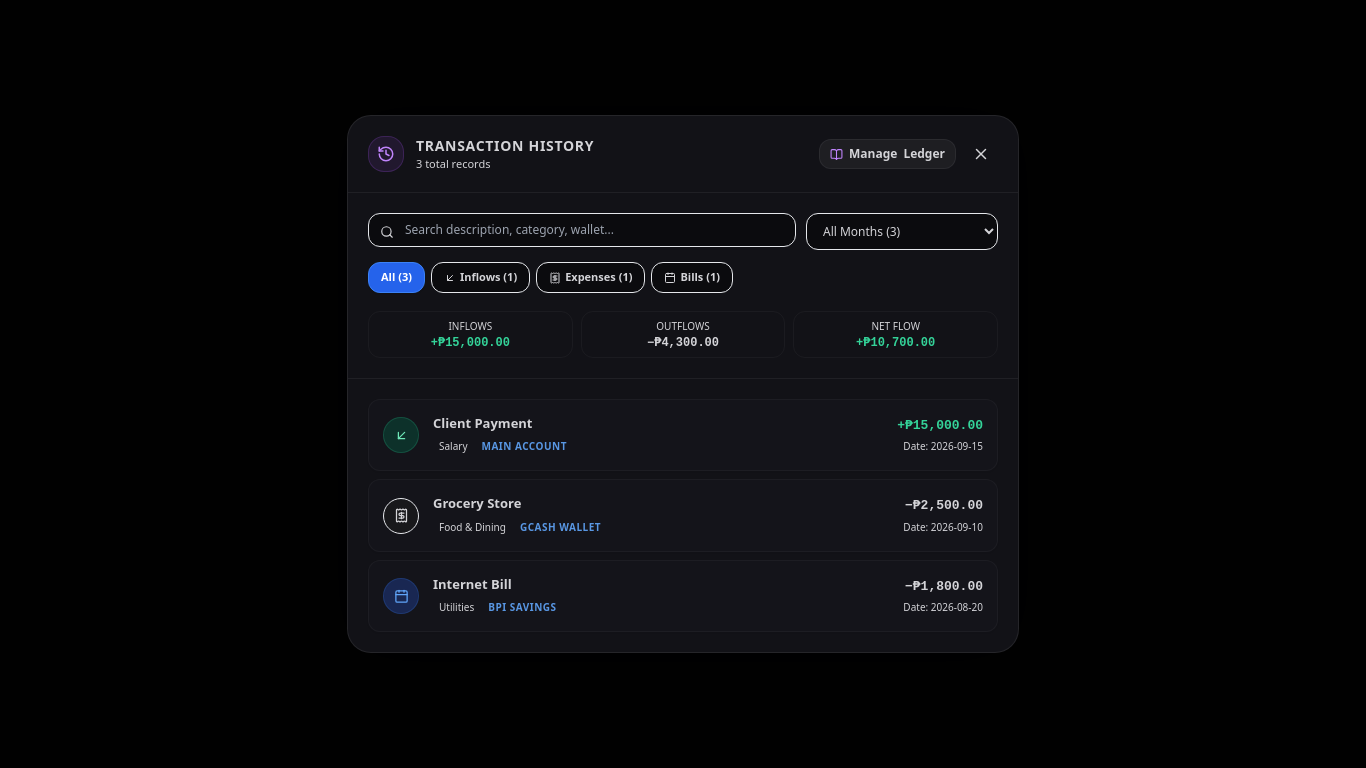
Test: TransactionHistoryModal › filters transactions by month
Note: Select August 2026 ("2026-08")
Select "August 2026" in the dropdown named "Filter by month". click: (902, 232)
box: [806,213,998,250]
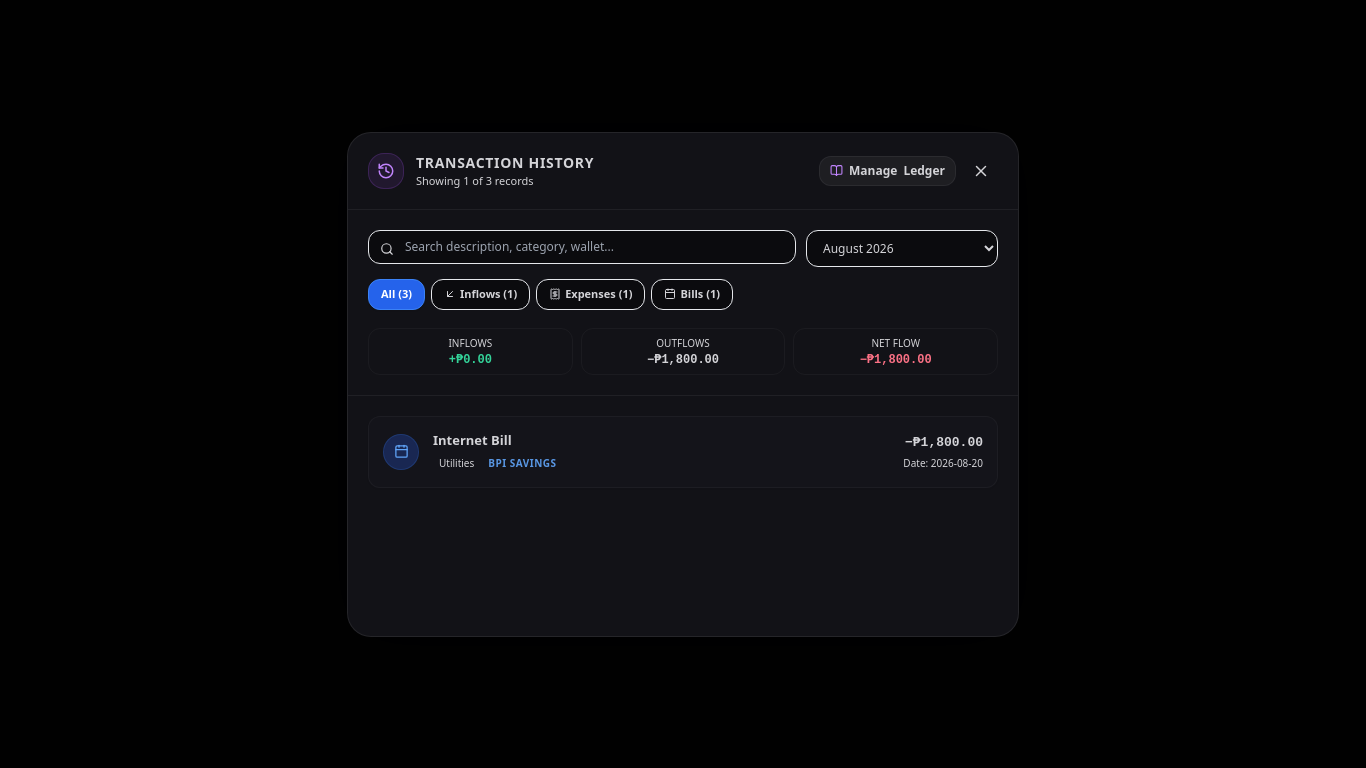
Expected: the text "Internet Bill" is shown, [433,430,512,448]
Expected: the text "Client Payment" is gone
Expected: the text "Grocery Store" is gone
